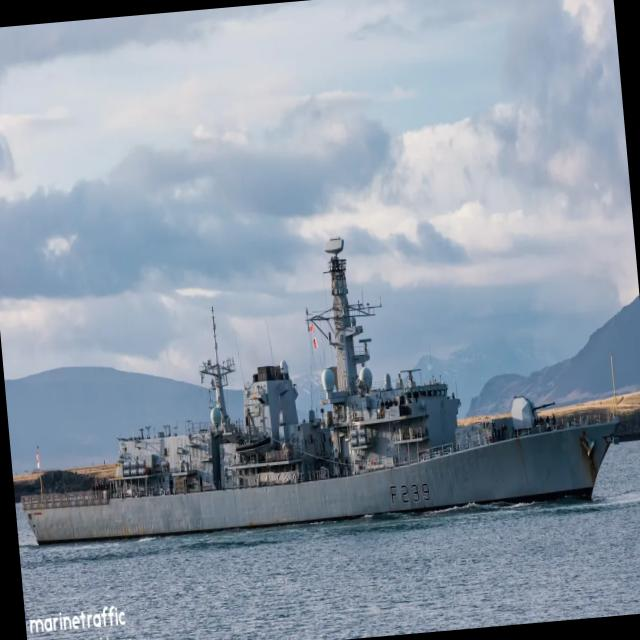Military: (23, 237, 617, 543)
